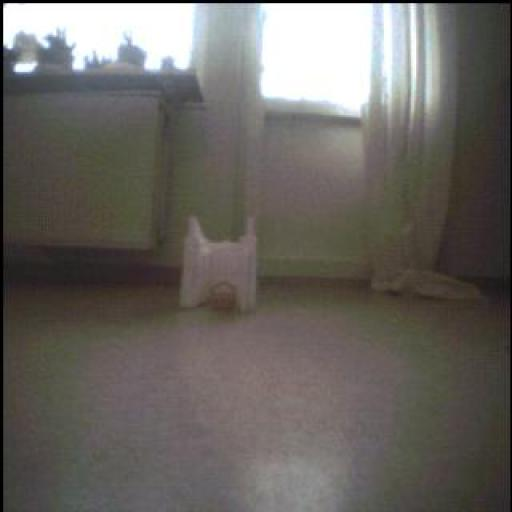Basket: (204, 275, 245, 319)
